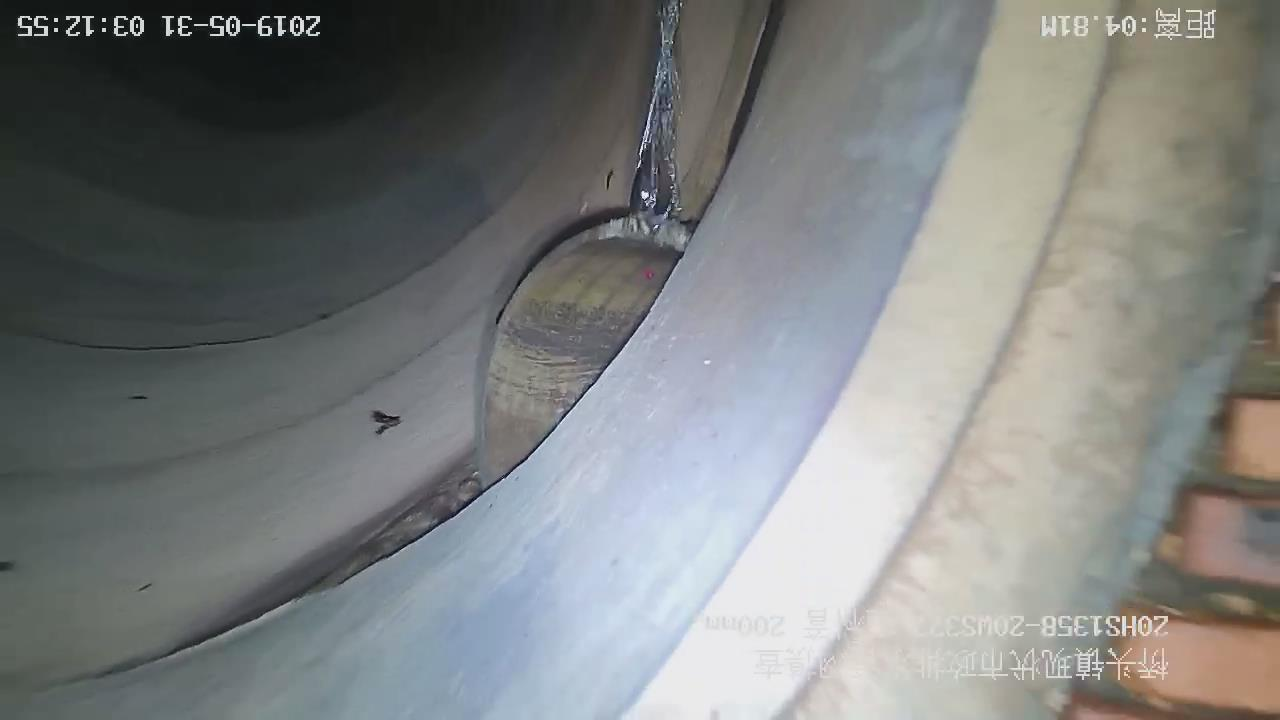ZGAJ: (480, 215, 688, 486)
